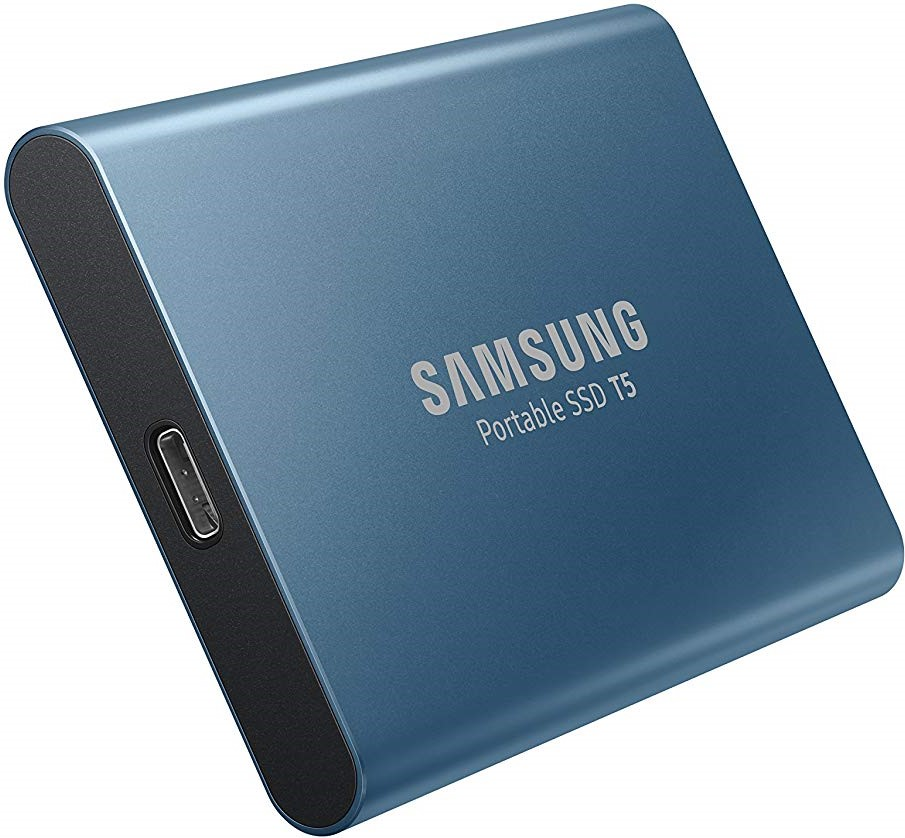samsung-hdd-240gb: (3, 6, 872, 838)
